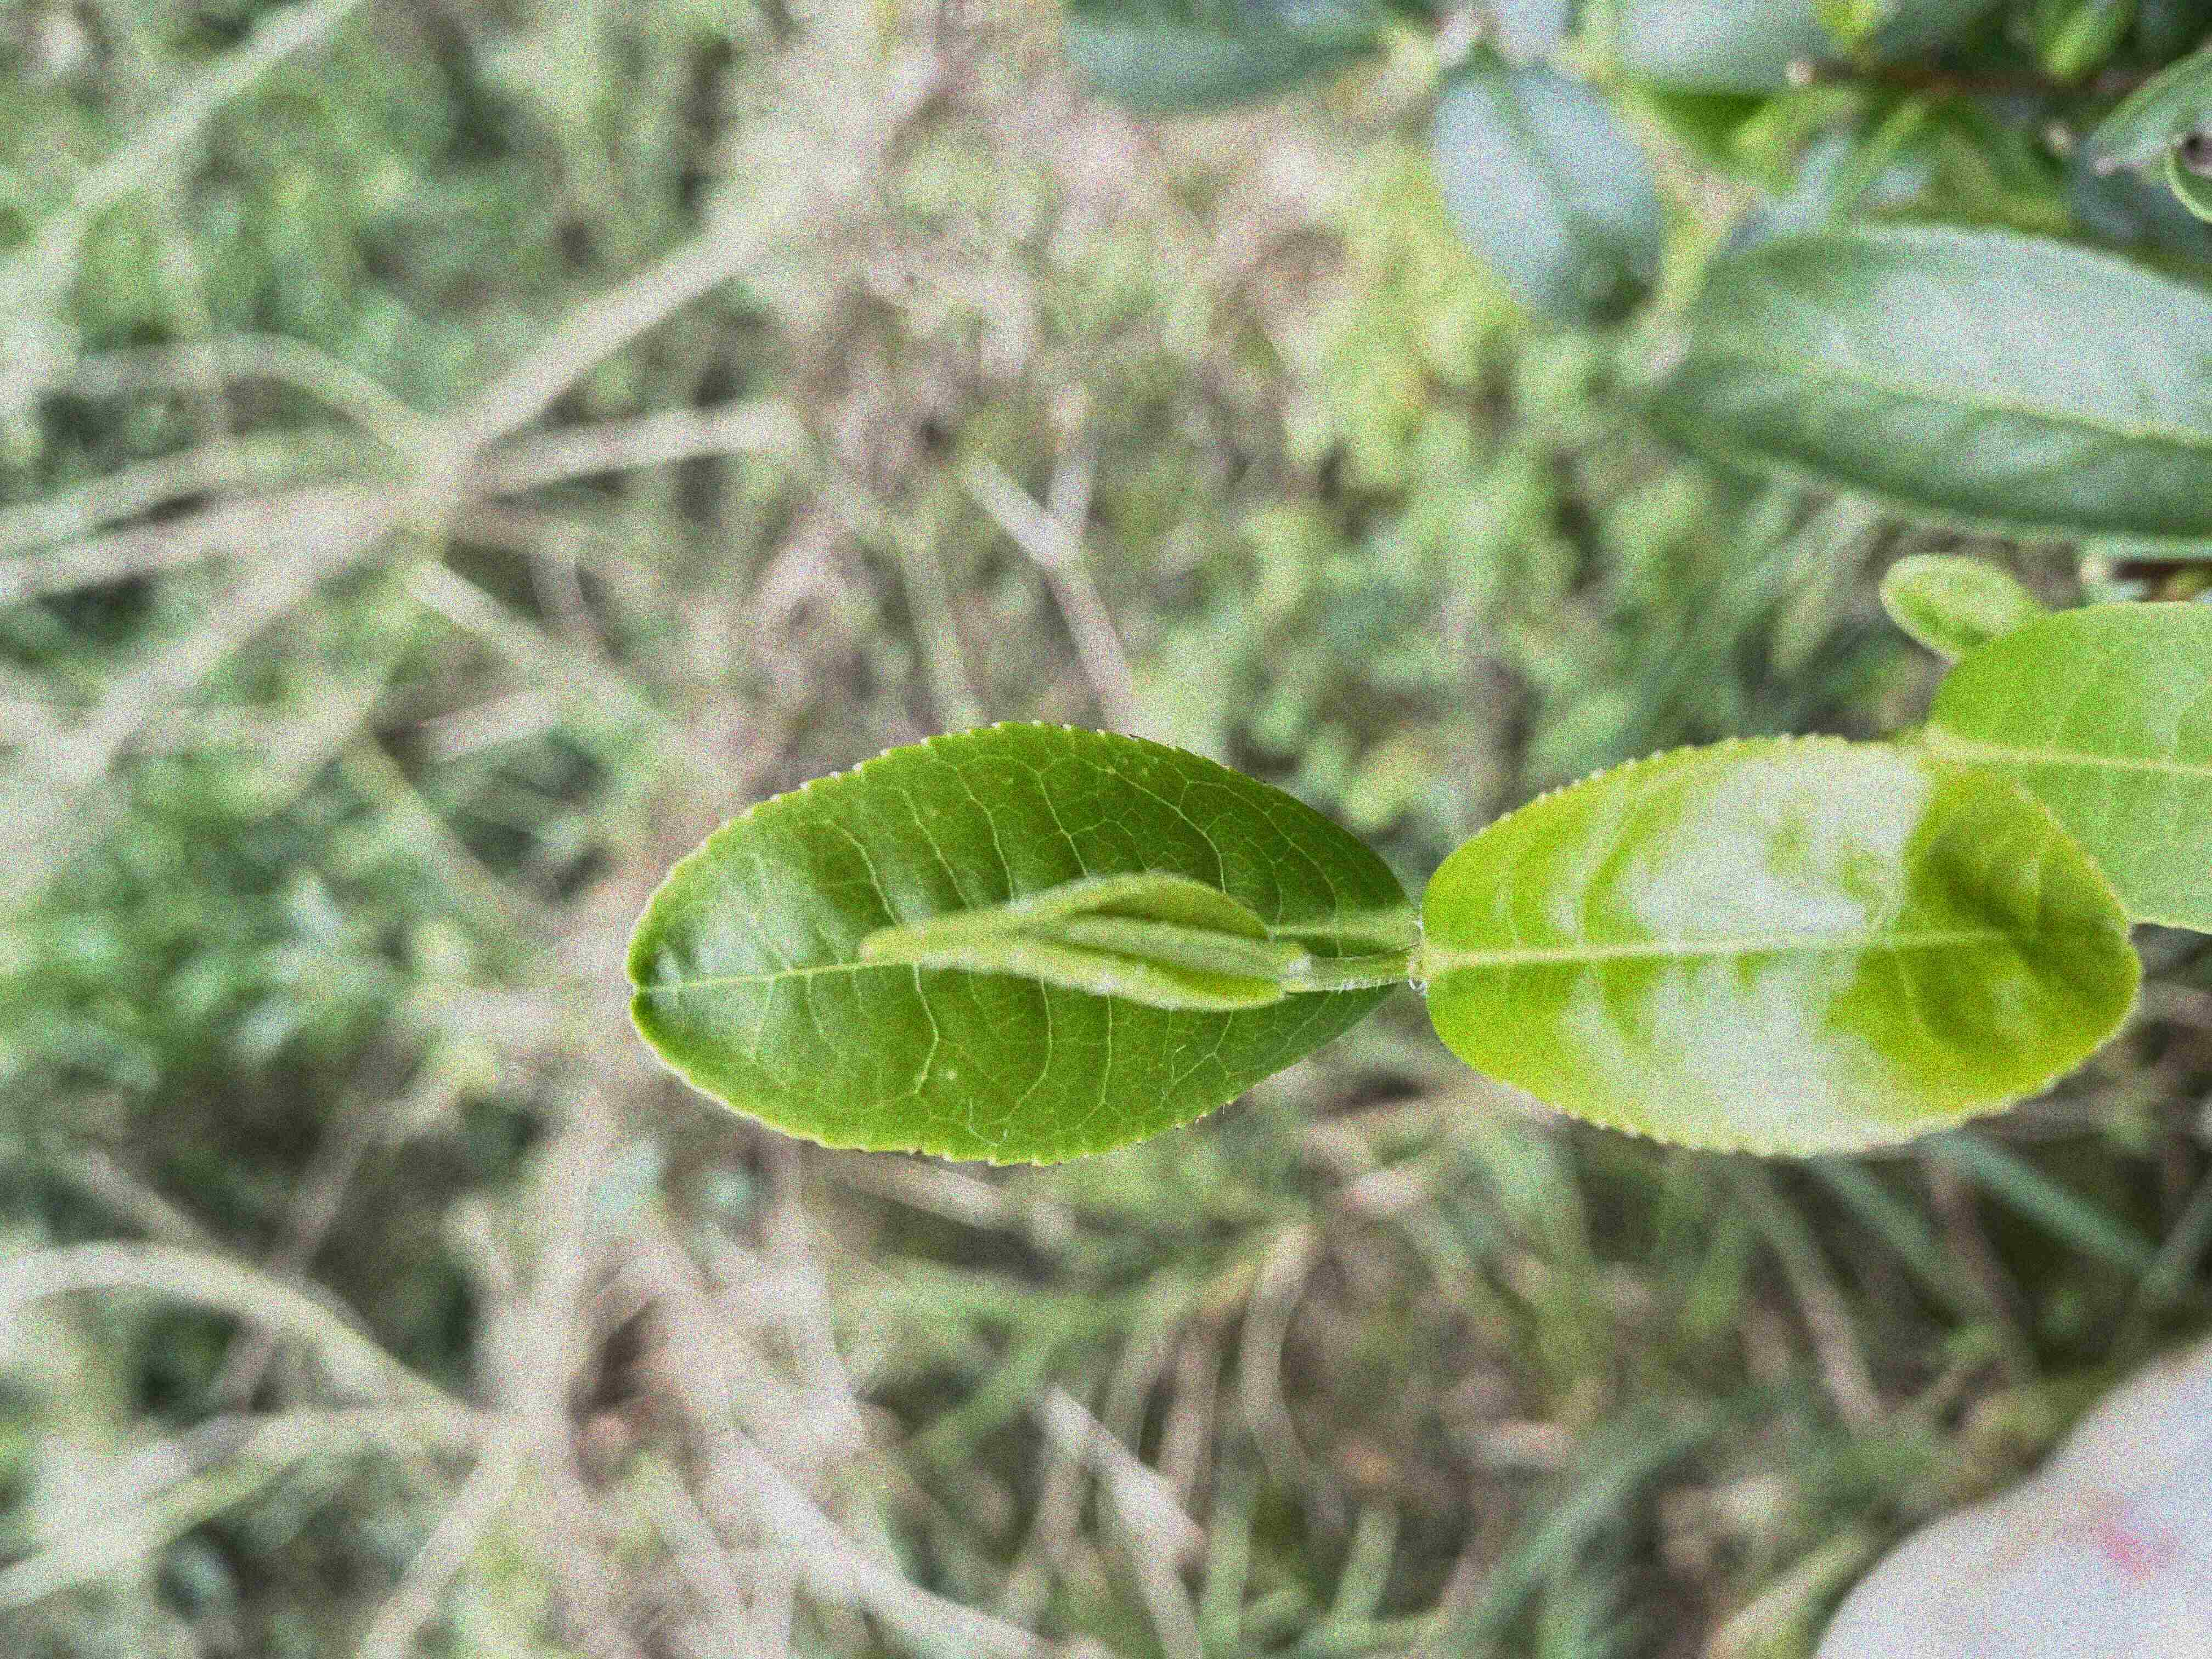healthy: (620, 720, 1411, 1166), (1425, 735, 2146, 1161)
